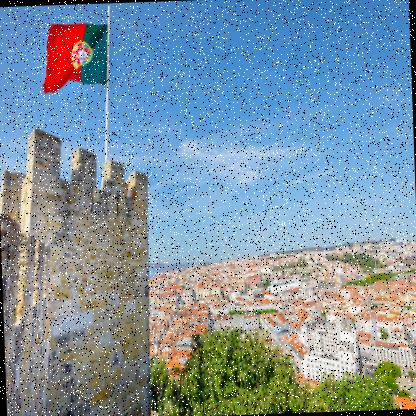pt: (41, 20, 110, 96)
